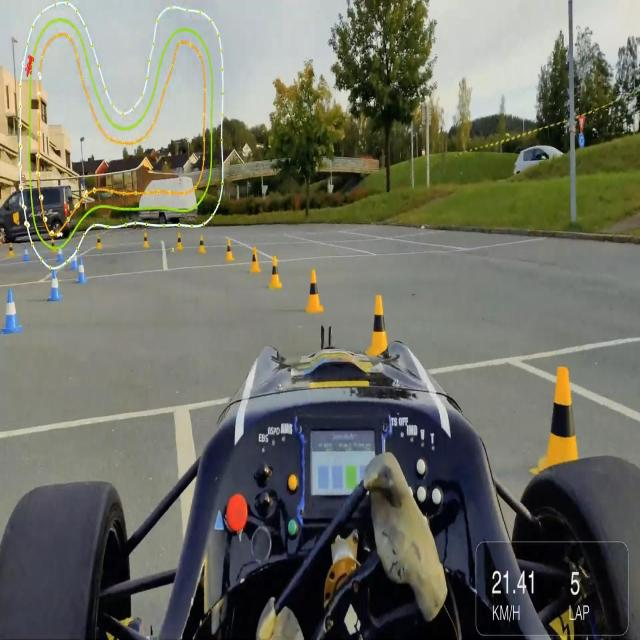blue_cone: (0, 290, 25, 337), (48, 270, 63, 304), (77, 258, 87, 285), (22, 246, 31, 264), (71, 247, 78, 270), (58, 244, 64, 263)
yellow_cone: (533, 362, 586, 478), (366, 293, 389, 358), (303, 268, 326, 315), (266, 256, 284, 292), (248, 246, 261, 274), (224, 236, 236, 263), (7, 240, 17, 260), (198, 234, 208, 254), (143, 228, 152, 250), (95, 234, 104, 252), (175, 231, 183, 251), (51, 237, 55, 253)
